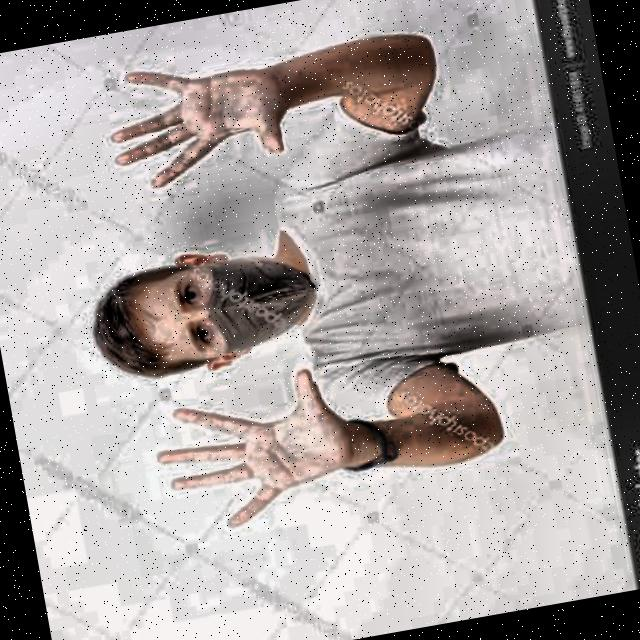fear: (67, 198, 336, 408)
